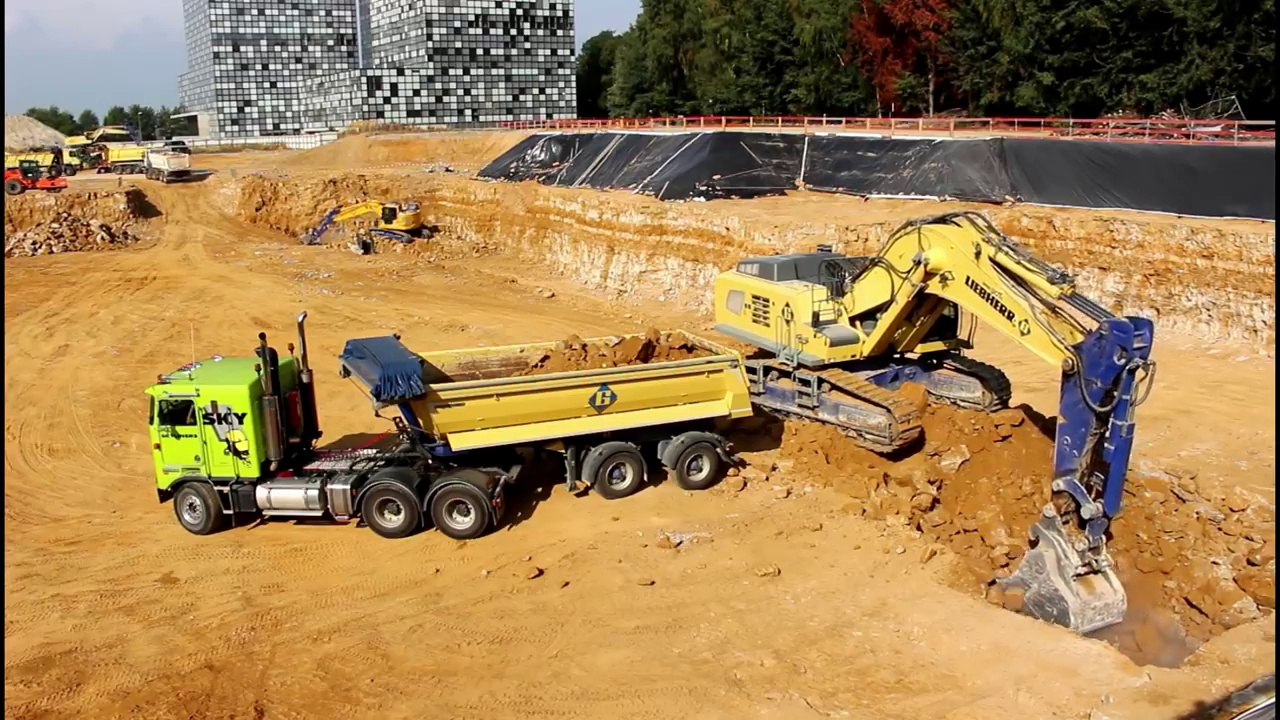compactor: (4, 157, 68, 198)
excavator: (690, 207, 1167, 644), (294, 198, 440, 252), (63, 121, 145, 154)
truck: (139, 309, 760, 544), (91, 140, 191, 174), (2, 141, 81, 182), (140, 143, 195, 185)
